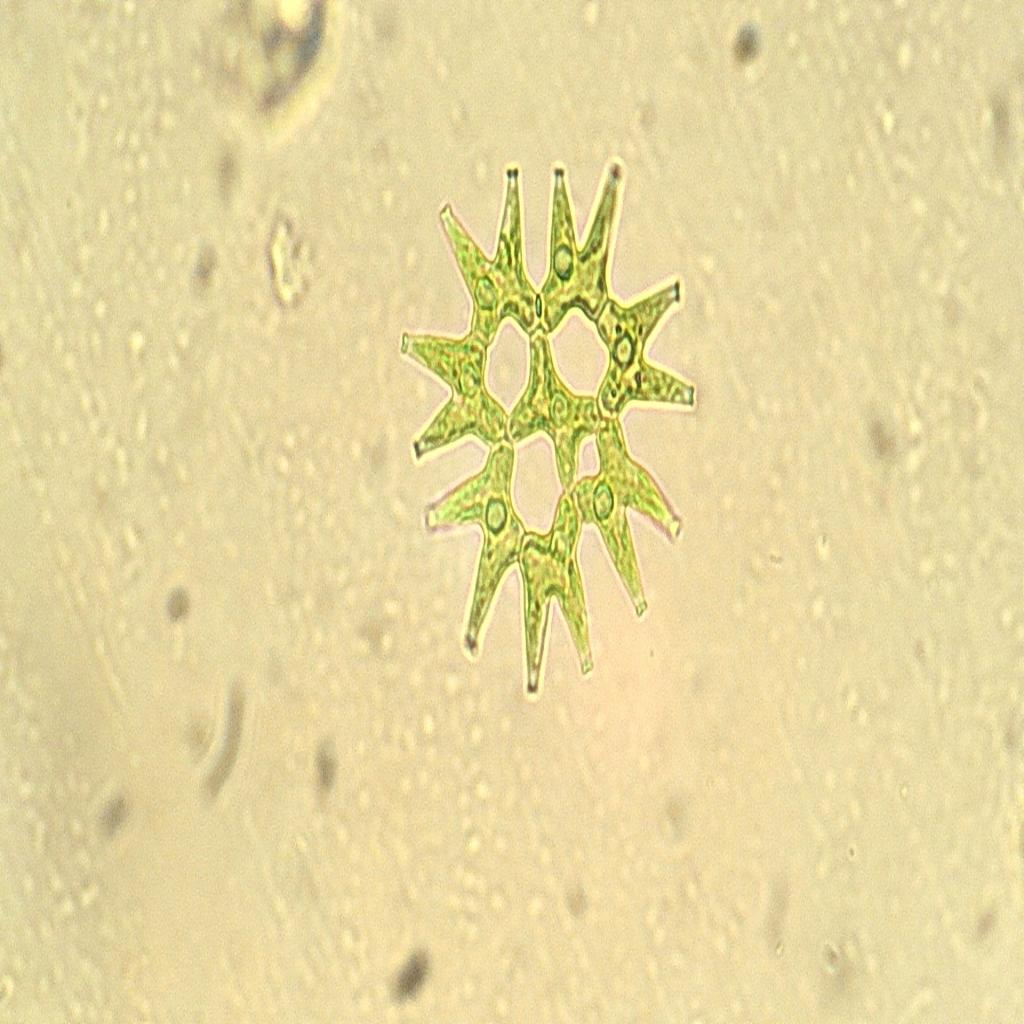Pediastrum_75T: (391, 124, 706, 702)
